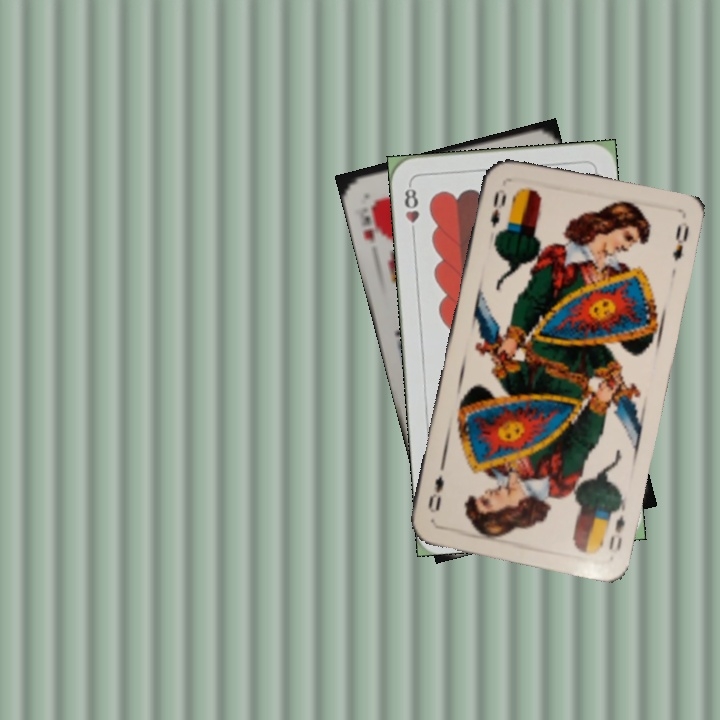EO: (486, 185, 509, 231), (604, 510, 628, 553)
H8: (400, 180, 422, 239)
HK: (358, 196, 385, 246)
